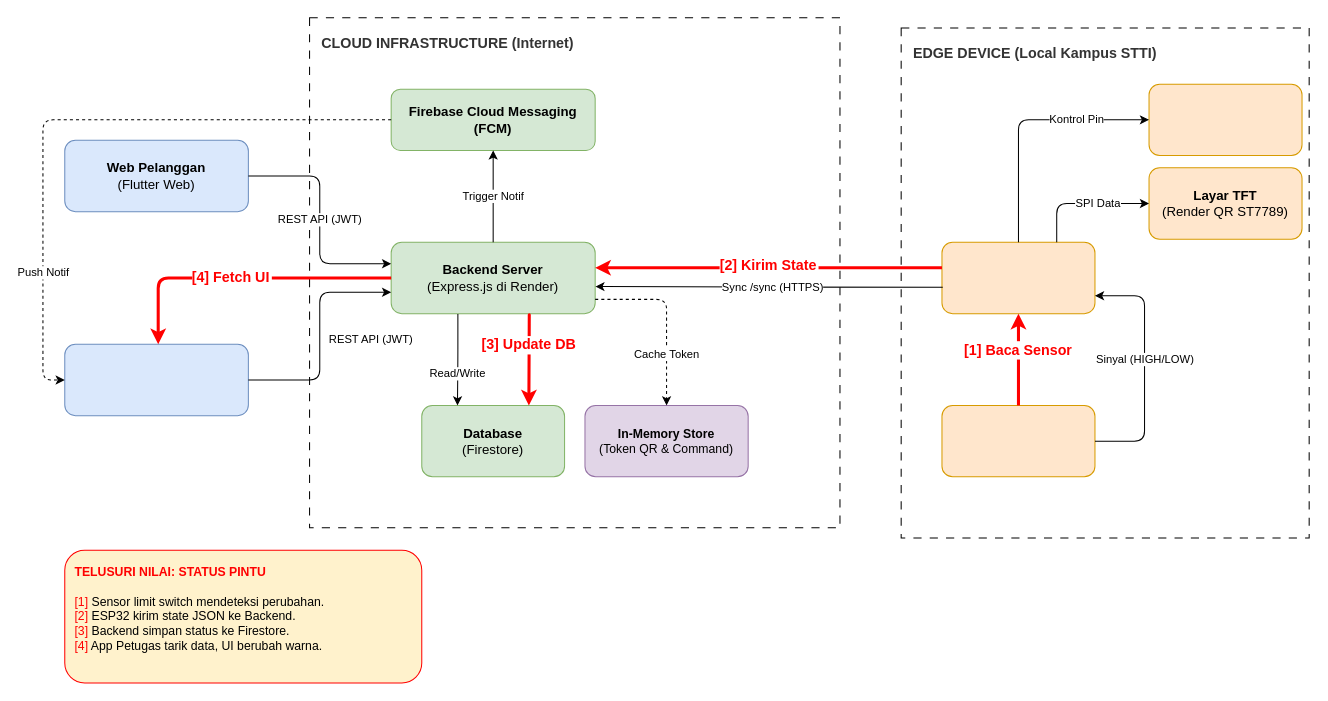
This 1328x701 diagram has some shape labels left out. The shapes that lost their labels are listed below. From the top down, each one's centre as x and y in pixels, then its label:
At (1225,119): "Relay & Solenoid (Kunci Fisik 12V)".
At (1018,277): "ESP32 (Firmware Client)".
At (156,379): "App Petugas (Flutter Android)".
At (1018,440): "Limit Switch (Sensor Pintu)".
